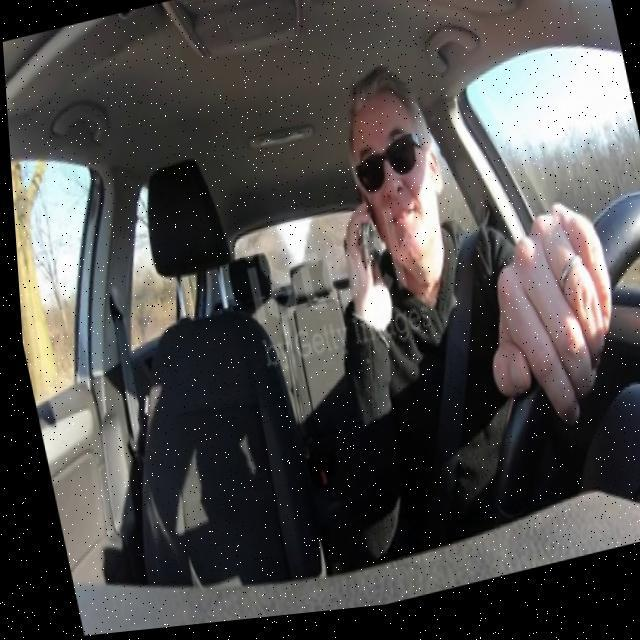PhoneCall: (346, 204, 385, 297)
